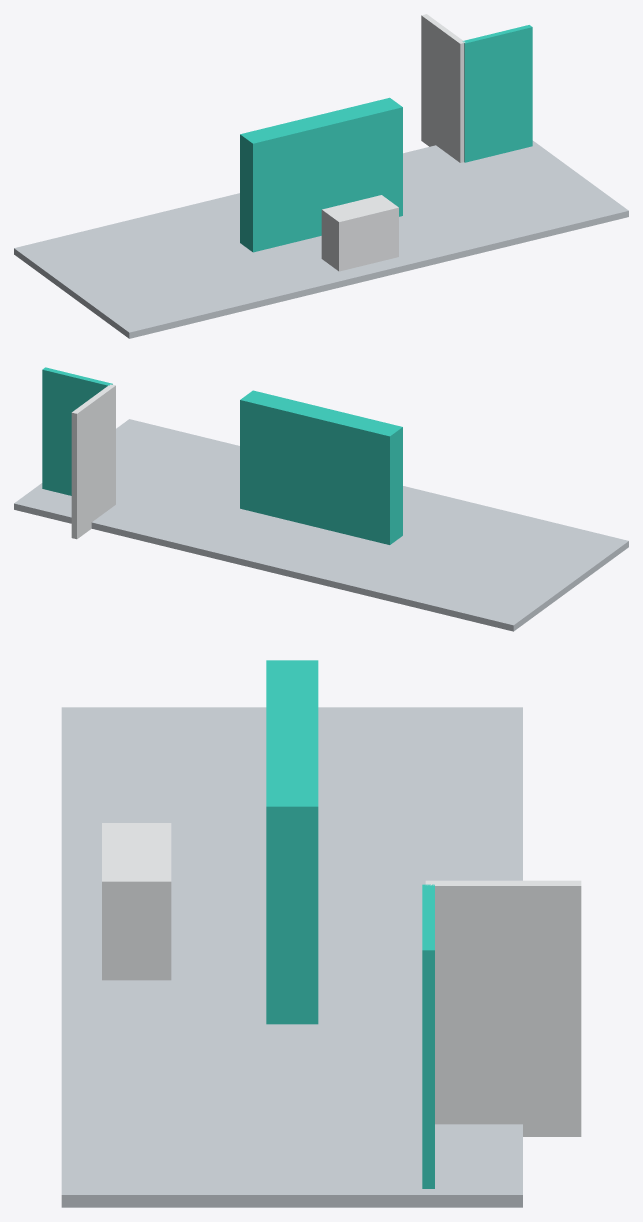
3 renders of one model, top to bottom at view 1: azimuth 30°, elevation 25°; view 2: azimuth 150°, elevation 25°; view 3: azimuth 270°, elevation 25°, orthographic. The views are drawn at different scales.
Parts seen in each view (by area): view 1: Exhibition Booth Concept; view 2: Exhibition Booth Concept; view 3: Exhibition Booth Concept.
Part boxes in pixels (left/top/right/bottom): Exhibition Booth Concept: left=14, top=14, right=628, bottom=338; Exhibition Booth Concept: left=14, top=367, right=628, bottom=631; Exhibition Booth Concept: left=61, top=660, right=581, bottom=1207.
Bounding box in the file's own units: 10 × 2.4 × 4.51.
